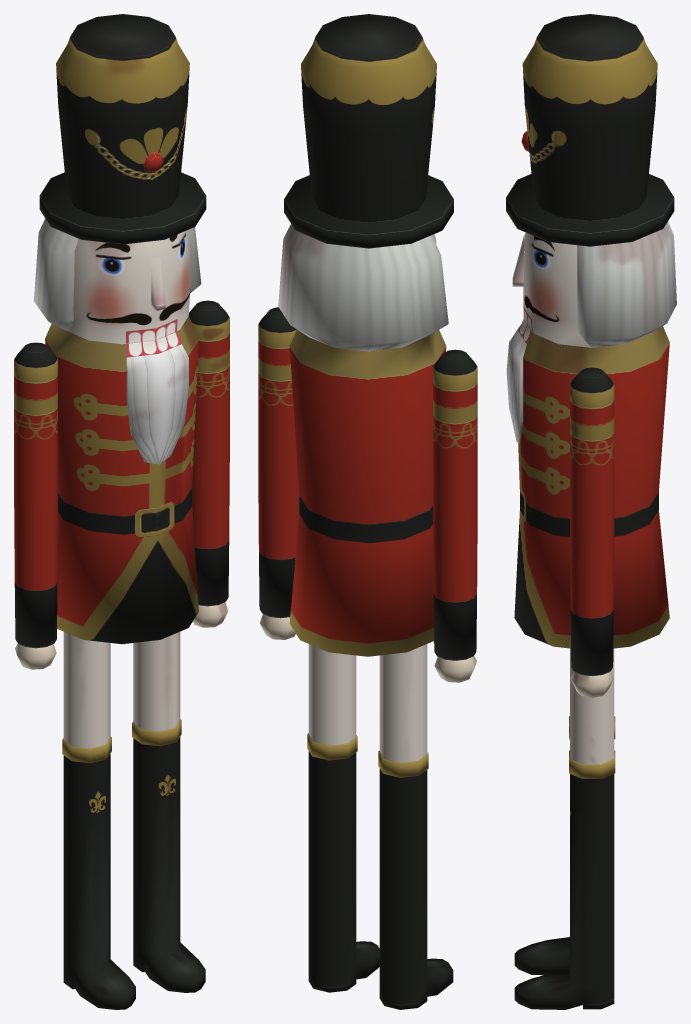
The model's file is [fbx]boss.fbx.
The picture shows the model from 3 angles, left to right: view 1: azimuth 30°, elevation 25°; view 2: azimuth 150°, elevation 25°; view 3: azimuth 270°, elevation 25°; orthographic projection.
Visible parts, largest first — view 1: boss; view 2: boss; view 3: boss.
Part boxes in pixels (x1=…): boss: x1=14, y1=14, x2=229, y2=1009; boss: x1=258, y1=14, x2=477, y2=1009; boss: x1=506, y1=14, x2=676, y2=1009.
Bounding box in the file's own units: 8.19 × 34.98 × 5.73.
2 materials, 2 textured.
